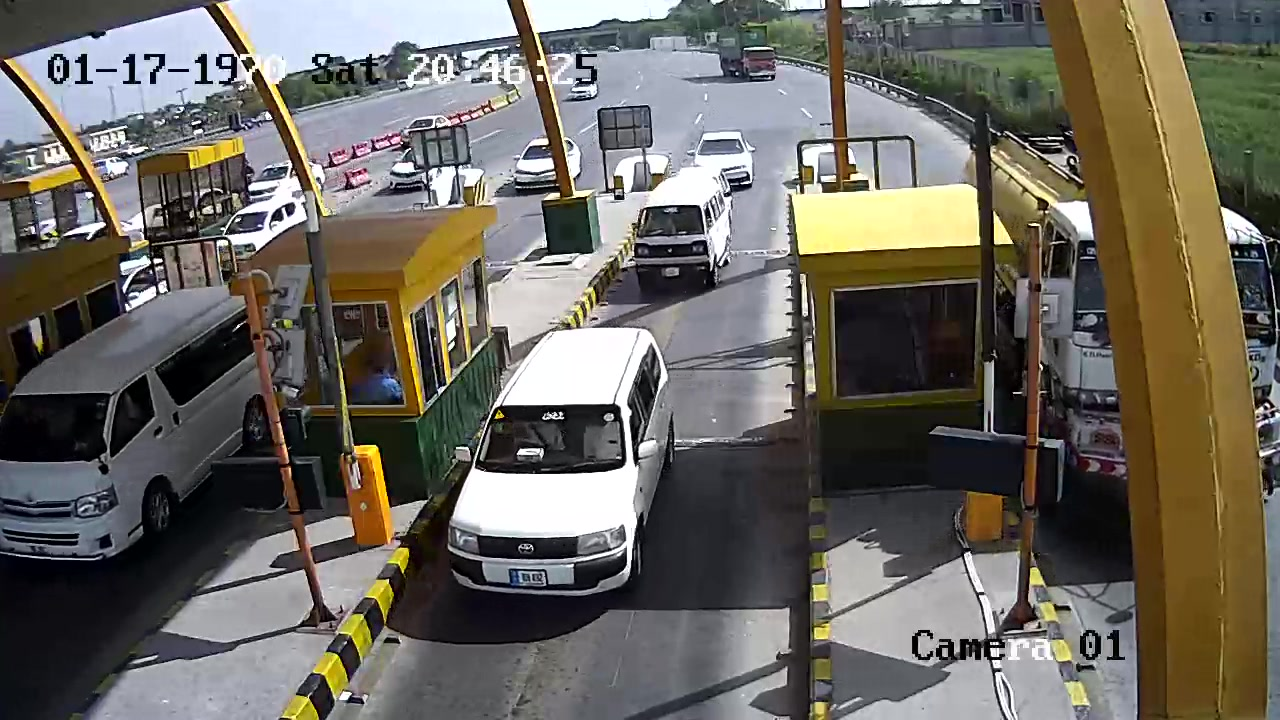F1: (452, 323, 684, 606), (625, 164, 736, 300)
